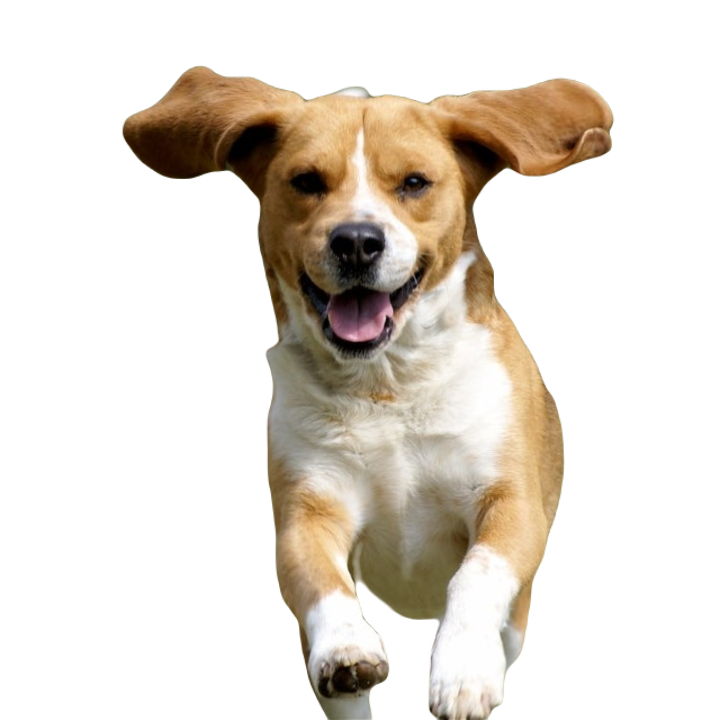Dog: (120, 65, 614, 719)
